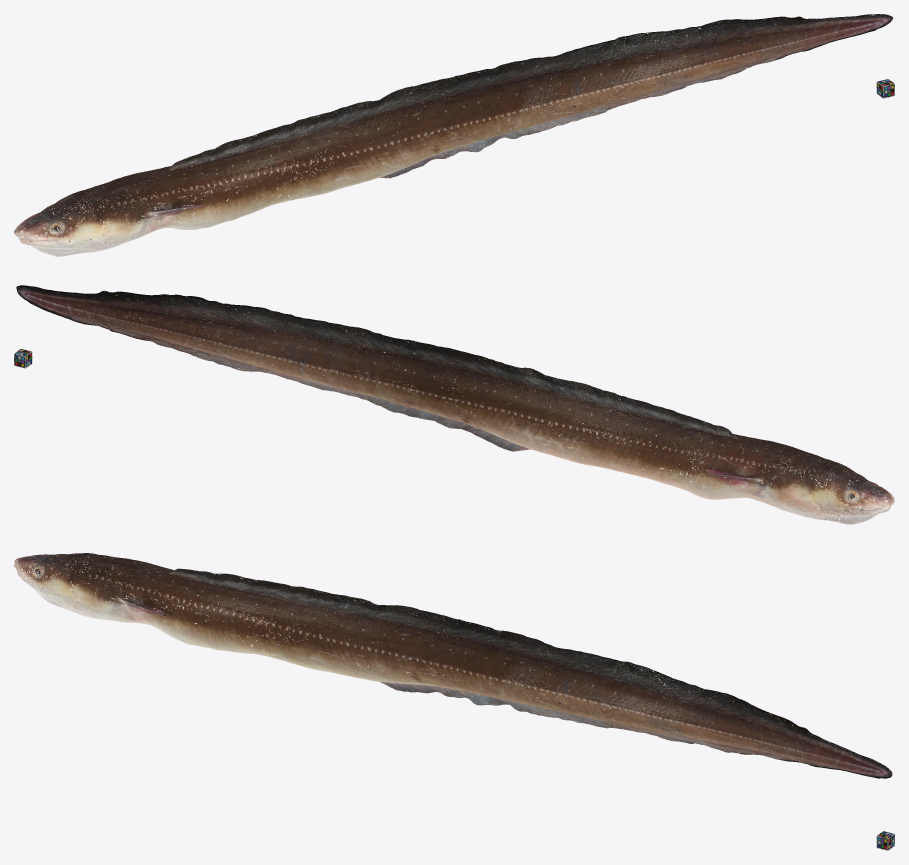
Rendered from scan_conger.glb.
3 renders of one model, top to bottom at view 1: azimuth 30°, elevation 25°; view 2: azimuth 150°, elevation 25°; view 3: azimuth 330°, elevation 25°, orthographic.
Visible parts, largest first — view 1: Object_6, Object_12; view 2: Object_12, Object_6; view 3: Object_6, Object_12.
Part boxes in pixels (bbox=[...]): Object_6: bbox=[14, 14, 892, 254]; Object_12: bbox=[14, 14, 892, 256]; Object_12: bbox=[17, 285, 894, 524]; Object_6: bbox=[16, 285, 894, 523]; Object_6: bbox=[14, 553, 889, 778]; Object_12: bbox=[15, 553, 892, 778].
Bounding box in the file's own units: 26.64 × 3.55 × 2.42.
3 materials, 3 textured.
